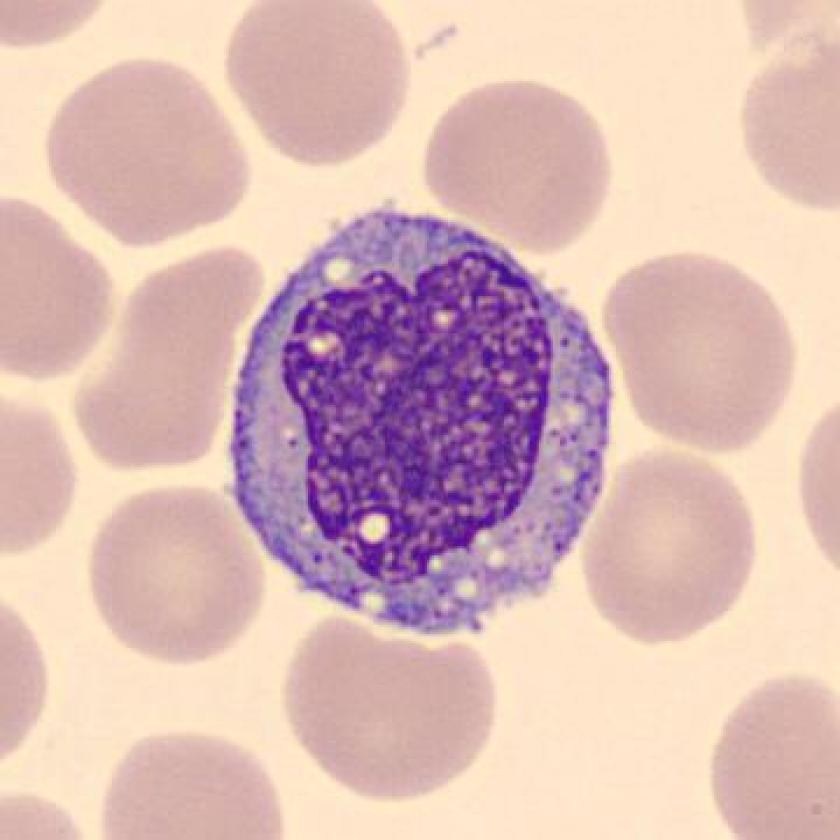monocyte: (204, 193, 640, 654)
